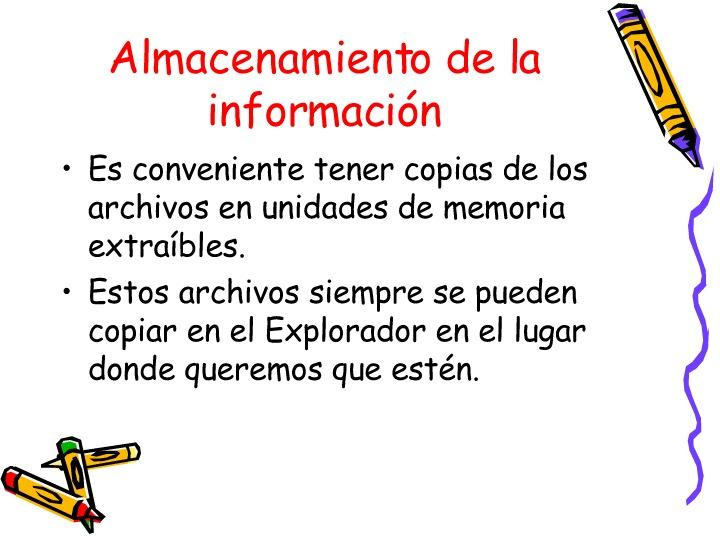paragraph: (58, 150, 625, 396)
title: (100, 27, 565, 140)
